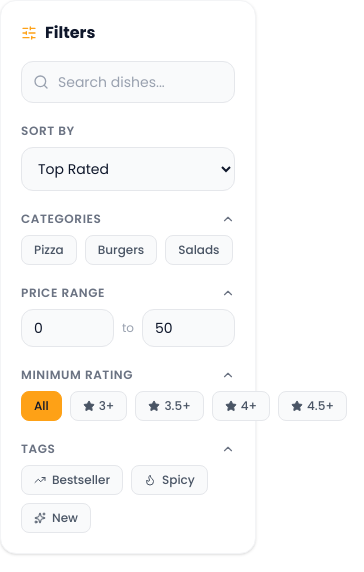
Test case: SearchFilters › collapsing then re-expanding Categories shows the buttons again
Click the button "Categories": click(128, 219) [21,211,235,227]
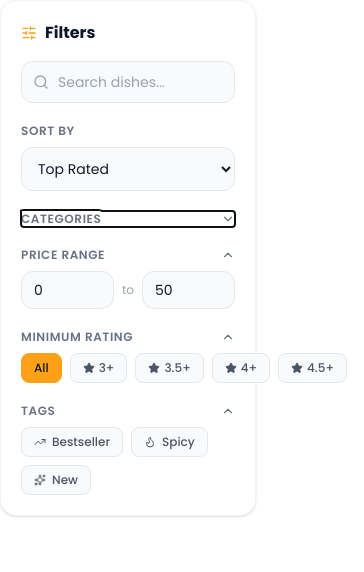
Click the button "Categories": click(128, 219) [21,211,235,227]
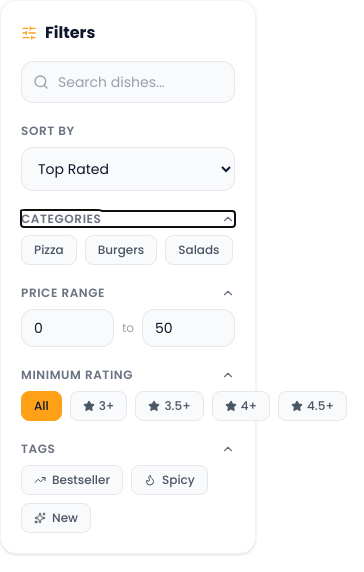
Result: the button "Pizza" is shown at [21,235,77,265]
